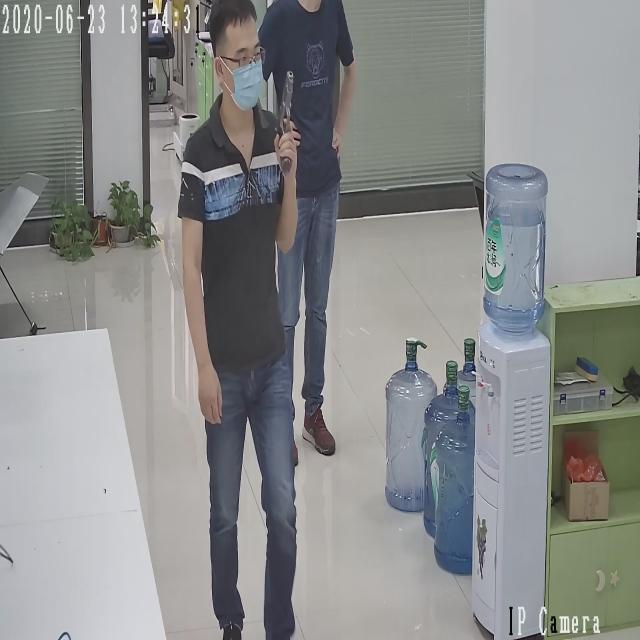gun-knife-thesis - v11 Yolov5 augmented: (272, 66, 298, 179)
